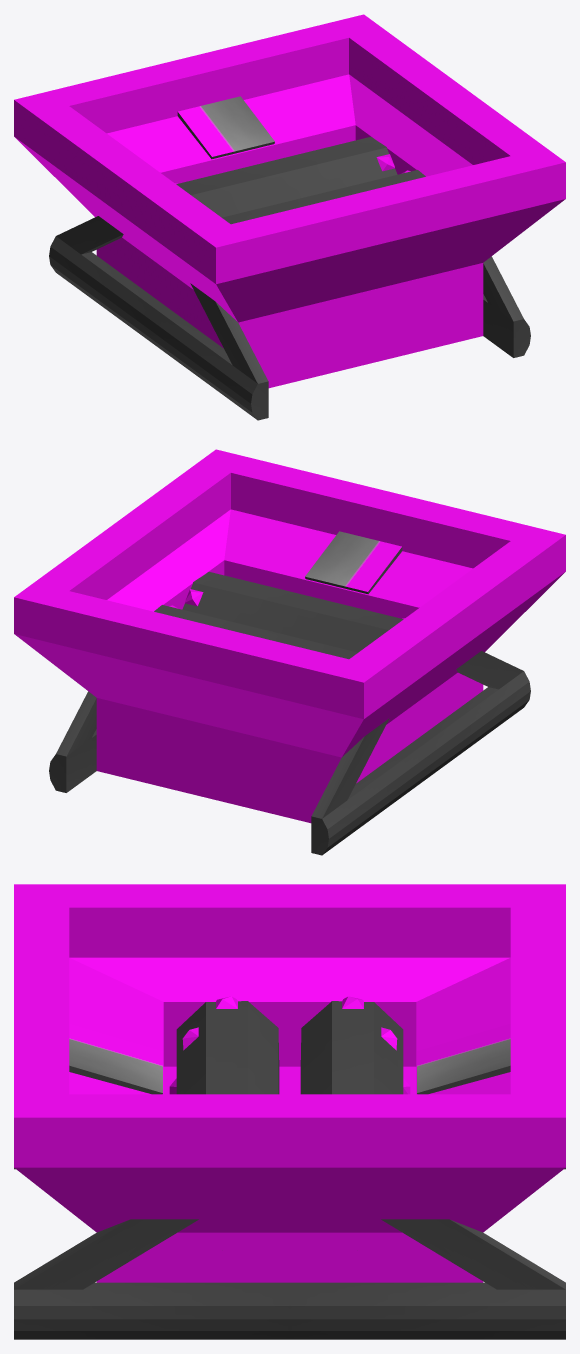
File: conveyor_processor_grinder.obj
3 views of the same model, one above another, from view 1: azimuth 30°, elevation 25°; view 2: azimuth 150°, elevation 25°; view 3: azimuth 270°, elevation 25° (orthographic). The views are drawn at different scales.
Visible parts, largest first — view 1: ProcessorChute_chutemdl, Support_Alu_smdl_alu, Processor_Walzes, ProcessorMarker_Grinder_pmmdl_gri; view 2: ProcessorChute_chutemdl, Support_Alu_smdl_alu, Processor_Walzes, ProcessorMarker_Grinder_pmmdl_gri; view 3: ProcessorChute_chutemdl, Support_Alu_smdl_alu, Processor_Walzes, ProcessorMarker_Grinder_pmmdl_gri, BumpsGrinder.
Boxes of the visible parts, bbox=[...] form: ProcessorChute_chutemdl: bbox=[14, 14, 565, 388]; Support_Alu_smdl_alu: bbox=[49, 216, 530, 420]; Processor_Walzes: bbox=[176, 137, 425, 224]; ProcessorMarker_Grinder_pmmdl_gri: bbox=[177, 96, 274, 159]; ProcessorChute_chutemdl: bbox=[14, 449, 565, 823]; Support_Alu_smdl_alu: bbox=[49, 651, 530, 855]; Processor_Walzes: bbox=[154, 572, 403, 659]; ProcessorMarker_Grinder_pmmdl_gri: bbox=[305, 531, 402, 594]; ProcessorChute_chutemdl: bbox=[14, 884, 565, 1282]; Support_Alu_smdl_alu: bbox=[14, 1168, 565, 1339]; Processor_Walzes: bbox=[176, 1001, 403, 1094]; ProcessorMarker_Grinder_pmmdl_gri: bbox=[69, 1024, 510, 1094]; BumpsGrinder: bbox=[169, 996, 410, 1094].
Size of the model in its own units: 1 by 0.5 by 1.
